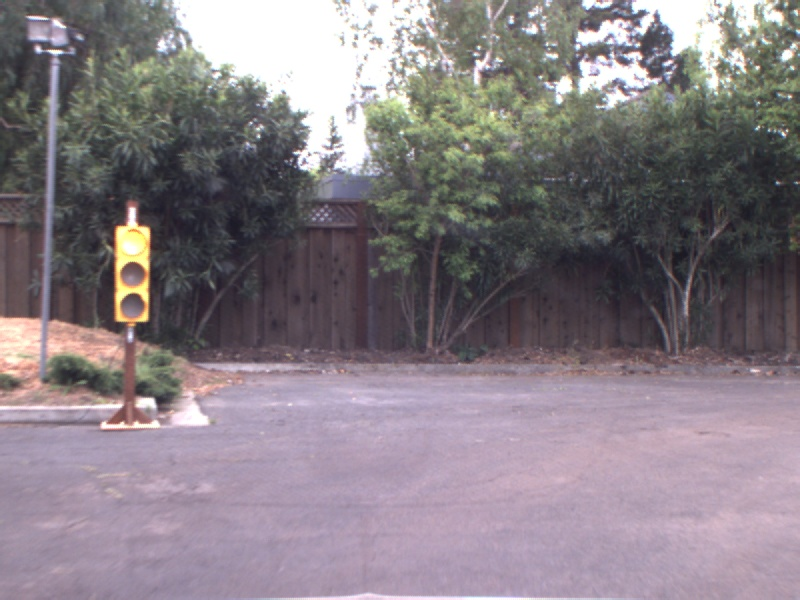red: (112, 222, 155, 324)
